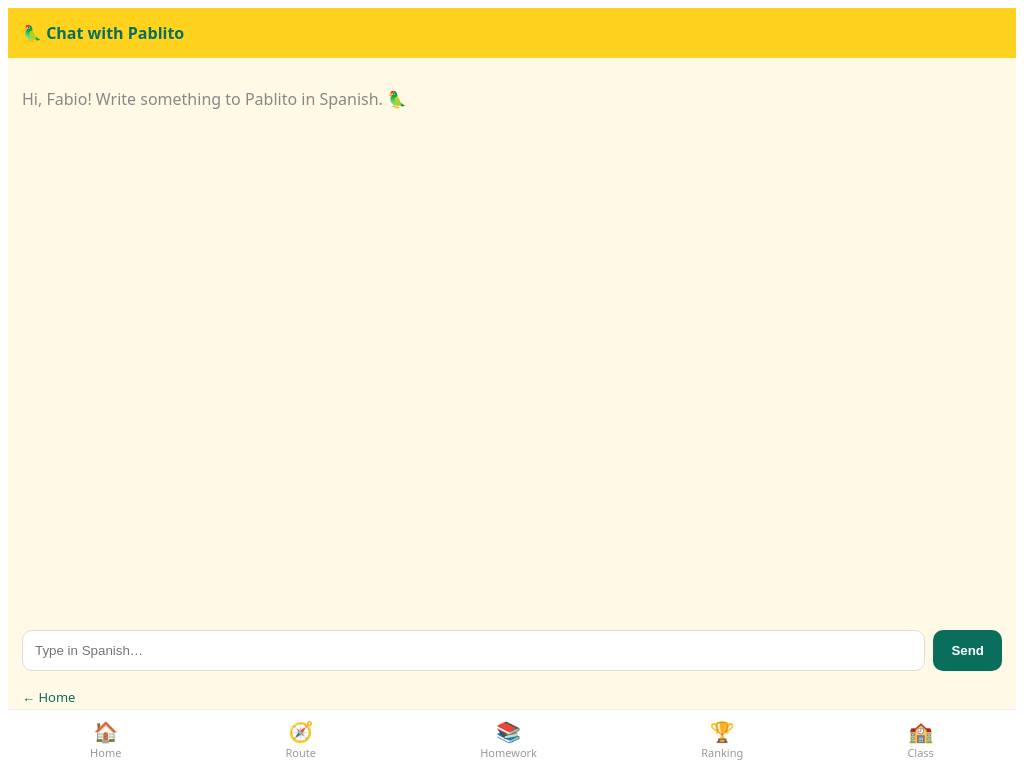
Scenario: a degraded reply is shown with the offline practice-mode note
The width and height of the screenshot is (1024, 768).
In the field named "Message for Pablito": {"x": 474, "y": 650} [22,630,925,671], type "hola"
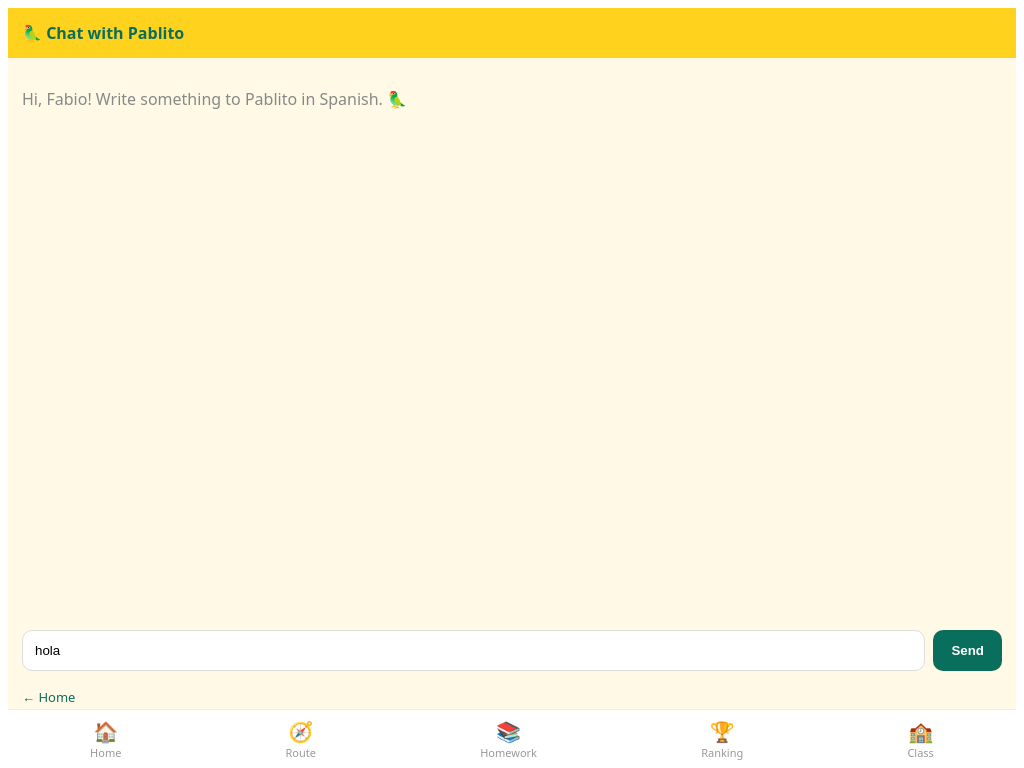
Click the button "Send": {"x": 968, "y": 650} [933,630,1002,671]
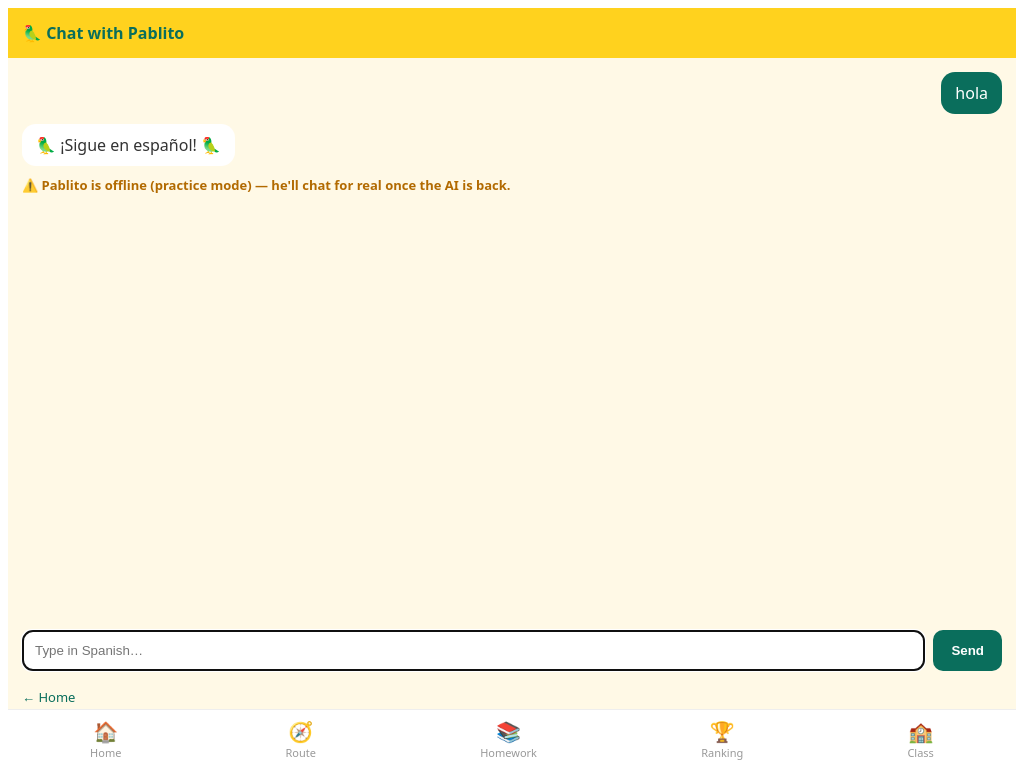
Result: the text "🦜 ¡Sigue en español! 🦜" is shown at [22,124,235,166]
Result: the text "offline (practice mode)" is shown at [22,176,510,194]
